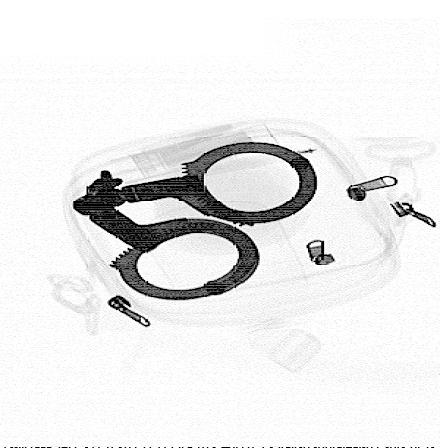HandCuffs: (70, 142, 320, 303)
